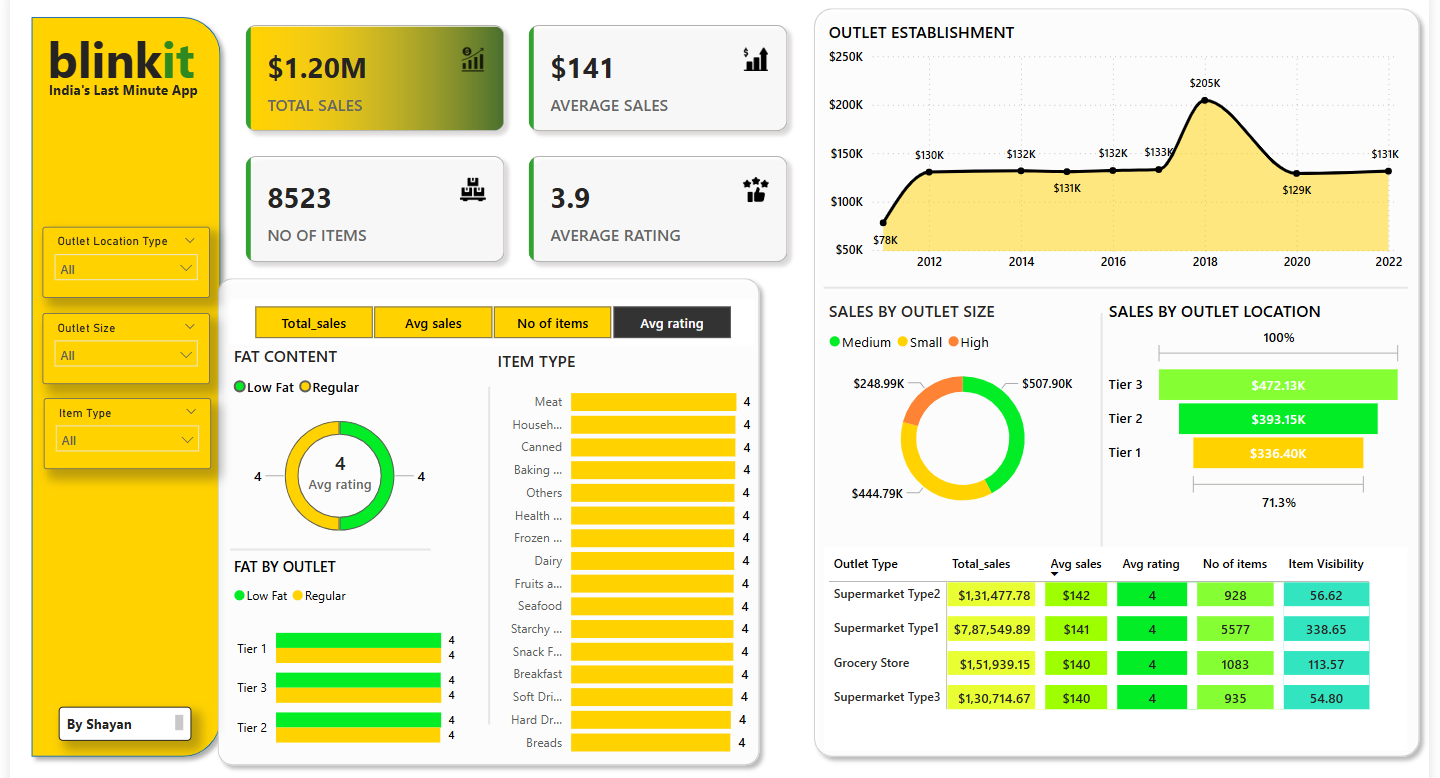

Layout of this report page (visuals, bound fields, positions):
{"tool":"powerbi","page":{"name":"Page 1","canvas":[1404,800],"ordinal":0},"visuals":[{"type":"shape","box":[12,15.1,205,750],"z":0},{"type":"textbox","box":[31.6,27.1,165.6,73.8],"z":1000},{"type":"textbox","box":[33.1,81.3,183.6,37.6],"z":2000},{"type":"cardVisual","fields":{"Data":["BlinkIT Grocery Data.Total_sales","BlinkIT Grocery Data.Average_sales","BlinkIT Grocery Data.No of items","BlinkIT Grocery Data.Average rating"]},"box":[216.7,15.1,570.5,269.4],"z":3000},{"type":"shape","box":[197.2,273.9,553.9,499.7],"z":4000},{"type":"donutChart","title":"FAT CONTENT","fields":{"Y":["BlinkIT Grocery Data.Avg rating"],"Category":["BlinkIT Grocery Data.Item Fat Content"]},"box":[216.7,347.7,219.8,209.2],"z":5000},{"type":"slicer","fields":{"Values":["Metrics.Metrics"]},"box":[216.7,302.5,520.8,45.2],"z":6000},{"type":"cardVisual","fields":{"Data":["BlinkIT Grocery Data.Avg rating"]},"box":[269.4,432,114.4,85.8],"z":7000},{"type":"clusteredBarChart","title":"FAT BY OUTLET","fields":{"Y":["BlinkIT Grocery Data.Avg rating"],"Category":["BlinkIT Grocery Data.Outlet Location Type"],"Series":["BlinkIT Grocery Data.Item Fat Content"]},"box":[216.7,556.9,228.8,207.7],"z":8000},{"type":"shape","box":[218.2,517.8,198.7,64.7],"z":9000},{"type":"shape","box":[374.8,389.8,198.7,334.1],"z":10000},{"type":"barChart","title":"ITEM TYPE","fields":{"Y":["BlinkIT Grocery Data.Avg rating"],"Category":["BlinkIT Grocery Data.Item Type"]},"box":[477.1,352.2,260.4,412.4],"z":11000},{"type":"shape","box":[787.2,6,617.1,758.6],"z":12000},{"type":"lineChart","title":"OUTLET ESTABLISHMENT","fields":{"Category":["BlinkIT Grocery Data.Outlet Establishment Year"],"Y":["BlinkIT Grocery Data.Total_sales"]},"box":[805.3,27.1,578,257.4],"z":13000},{"type":"shape","box":[805.3,258.9,578,66.2],"z":14000},{"type":"donutChart","title":"SALES BY OUTLET SIZE ","fields":{"Y":["BlinkIT Grocery Data.Total_sales"],"Category":["BlinkIT Grocery Data.Outlet Size"]},"box":[805.3,302.5,275.4,224.3],"z":15000},{"type":"shape","box":[981.4,316.1,198.7,231.8],"z":16000},{"type":"funnel","title":"SALES BY OUTLET LOCATION","fields":{"Y":["BlinkIT Grocery Data.Total_sales"],"Category":["BlinkIT Grocery Data.Outlet Location Type"]},"box":[1082.2,302.5,301,215.2],"z":17000},{"type":"pivotTable","fields":{"Rows":["BlinkIT Grocery Data.Outlet Type"],"Values":["BlinkIT Grocery Data.Total_sales","BlinkIT Grocery Data.Avg sales","BlinkIT Grocery Data.Avg rating","BlinkIT Grocery Data.No of items","Sum(BlinkIT Grocery Data.Item Visibility)"]},"box":[805.3,547.9,578,201.7],"z":17001},{"type":"slicer","fields":{"Values":["BlinkIT Grocery Data.Outlet Location Type"]},"box":[31.6,231.8,165.6,70.7],"z":17002},{"type":"slicer","fields":{"Values":["BlinkIT Grocery Data.Outlet Size"]},"box":[31.6,316.1,165.6,70.7],"z":17003},{"type":"slicer","fields":{"Values":["BlinkIT Grocery Data.Item Type"]},"box":[33.1,400.4,165.6,70.7],"z":17004},{"type":"textbox","box":[48.3,706.4,131.4,33.5],"z":17005}]}

Visuals, with their boxes on the page's 1404x800 design canvas (x1, y1, x2, y2). These are canvas units, not pixel positions in the 1440x778 screenshot, which may show the page scaled, cropped or inside an application window:
shape: (x1=12, y1=15, x2=217, y2=765)
textbox: (x1=32, y1=27, x2=197, y2=101)
textbox: (x1=33, y1=81, x2=217, y2=119)
cardVisual - BlinkIT Grocery Data.Total_sales x BlinkIT Grocery Data.Average_sales: (x1=217, y1=15, x2=787, y2=284)
shape: (x1=197, y1=274, x2=751, y2=774)
"FAT CONTENT" donutChart: (x1=217, y1=348, x2=436, y2=557)
slicer - Metrics.Metrics: (x1=217, y1=302, x2=738, y2=348)
cardVisual - BlinkIT Grocery Data.Avg rating: (x1=269, y1=432, x2=384, y2=518)
"FAT BY OUTLET" clusteredBarChart: (x1=217, y1=557, x2=446, y2=765)
shape: (x1=218, y1=518, x2=417, y2=582)
shape: (x1=375, y1=390, x2=574, y2=724)
"ITEM TYPE" barChart: (x1=477, y1=352, x2=738, y2=765)
shape: (x1=787, y1=6, x2=1404, y2=765)
"OUTLET ESTABLISHMENT" lineChart: (x1=805, y1=27, x2=1383, y2=284)
shape: (x1=805, y1=259, x2=1383, y2=325)
"SALES BY OUTLET SIZE " donutChart: (x1=805, y1=302, x2=1081, y2=527)
shape: (x1=981, y1=316, x2=1180, y2=548)
"SALES BY OUTLET LOCATION" funnel: (x1=1082, y1=302, x2=1383, y2=518)
pivotTable - BlinkIT Grocery Data.Outlet Type x BlinkIT Grocery Data.Total_sales: (x1=805, y1=548, x2=1383, y2=750)
slicer - BlinkIT Grocery Data.Outlet Location Type: (x1=32, y1=232, x2=197, y2=302)
slicer - BlinkIT Grocery Data.Outlet Size: (x1=32, y1=316, x2=197, y2=387)
slicer - BlinkIT Grocery Data.Item Type: (x1=33, y1=400, x2=199, y2=471)
textbox: (x1=48, y1=706, x2=180, y2=740)
